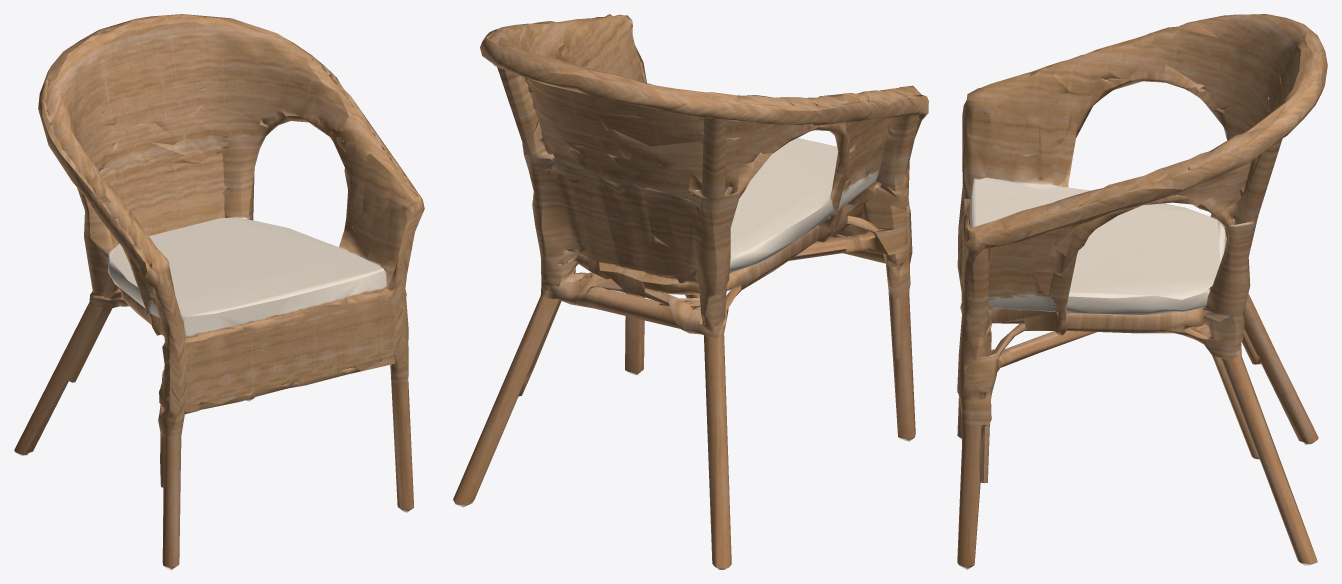
The model's file is armchair-20.glb.
3 renders of one model, left to right at view 1: azimuth 30°, elevation 25°; view 2: azimuth 150°, elevation 25°; view 3: azimuth 270°, elevation 25°, orthographic. The views are drawn at different scales.
Parts seen in each view (by area): view 1: ProcessedMeshNode; view 2: ProcessedMeshNode; view 3: ProcessedMeshNode.
Boxes of the visible parts, left/top/right/bottom form: ProcessedMeshNode: left=14, top=14, right=424, bottom=569; ProcessedMeshNode: left=453, top=14, right=928, bottom=569; ProcessedMeshNode: left=957, top=14, right=1327, bottom=569.
Size of the model in its own units: 0.5907 by 0.8052 by 0.5995.
1 material, 1 textured.
